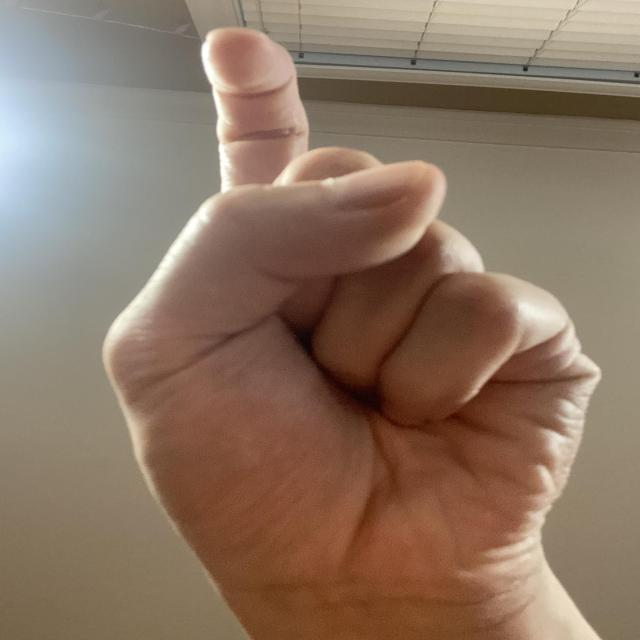X: (84, 15, 605, 640)
